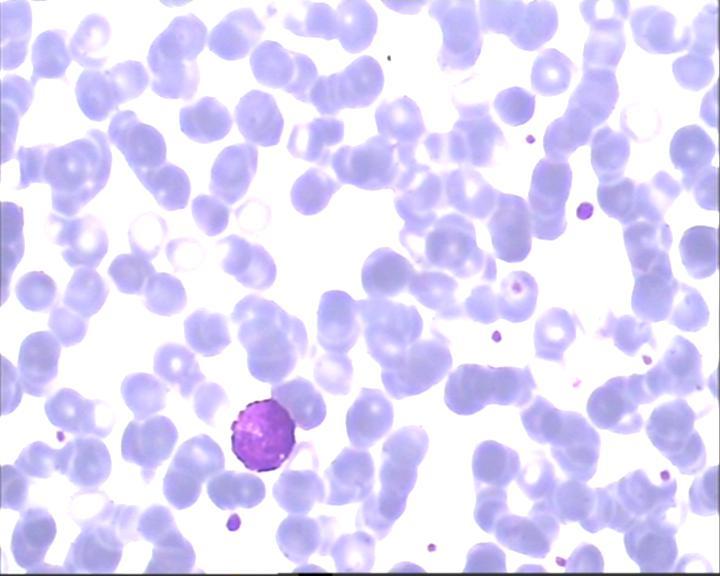baso: (226, 397, 302, 475)
